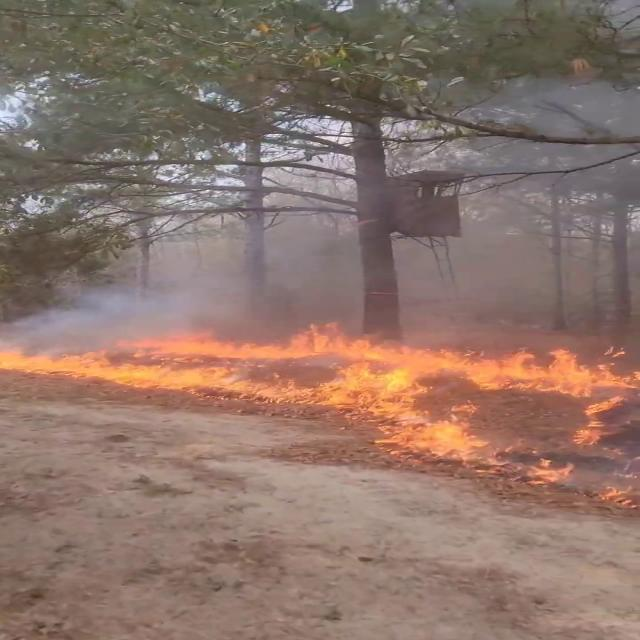Fire: (3, 316, 640, 412), (318, 356, 508, 473)
Smoke: (13, 88, 640, 345)
